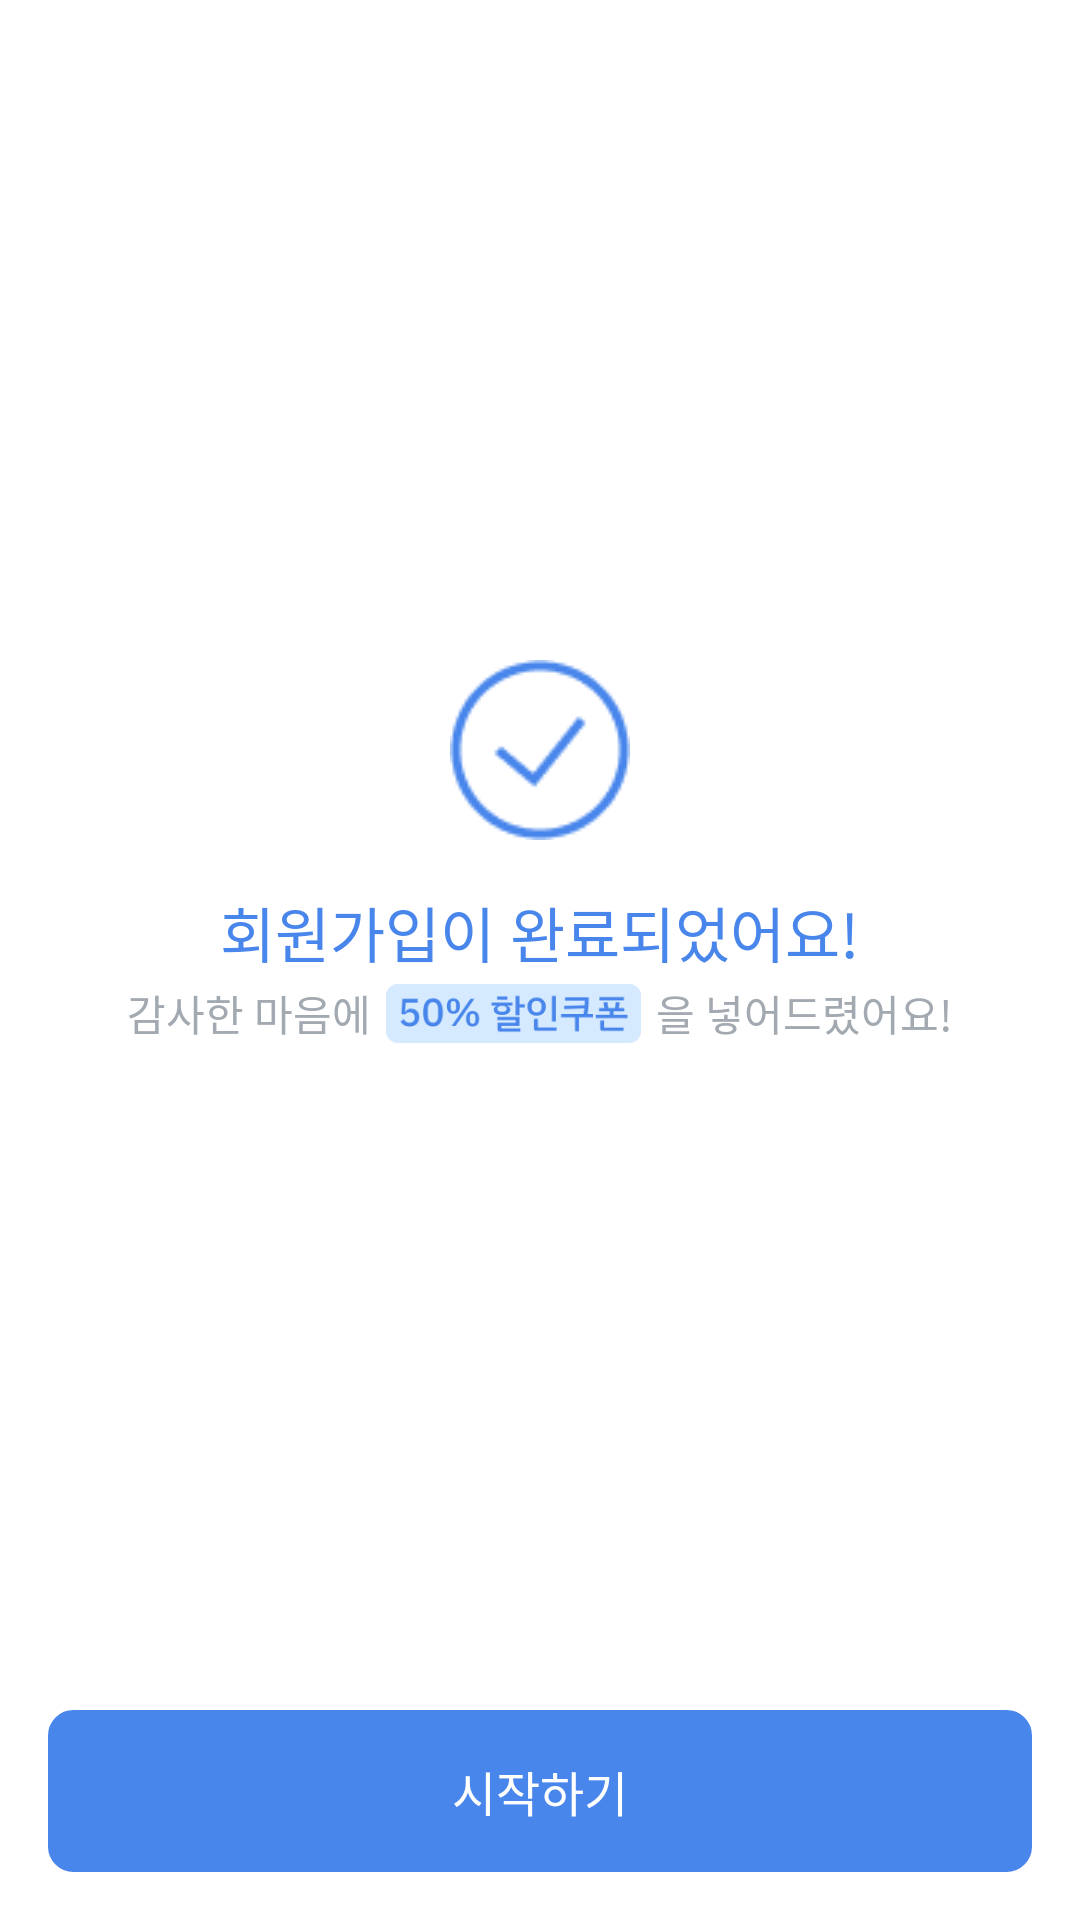

Icon click points for this 1080x1920 phone screenshot, format (x,y):
findid success: (540,750)
